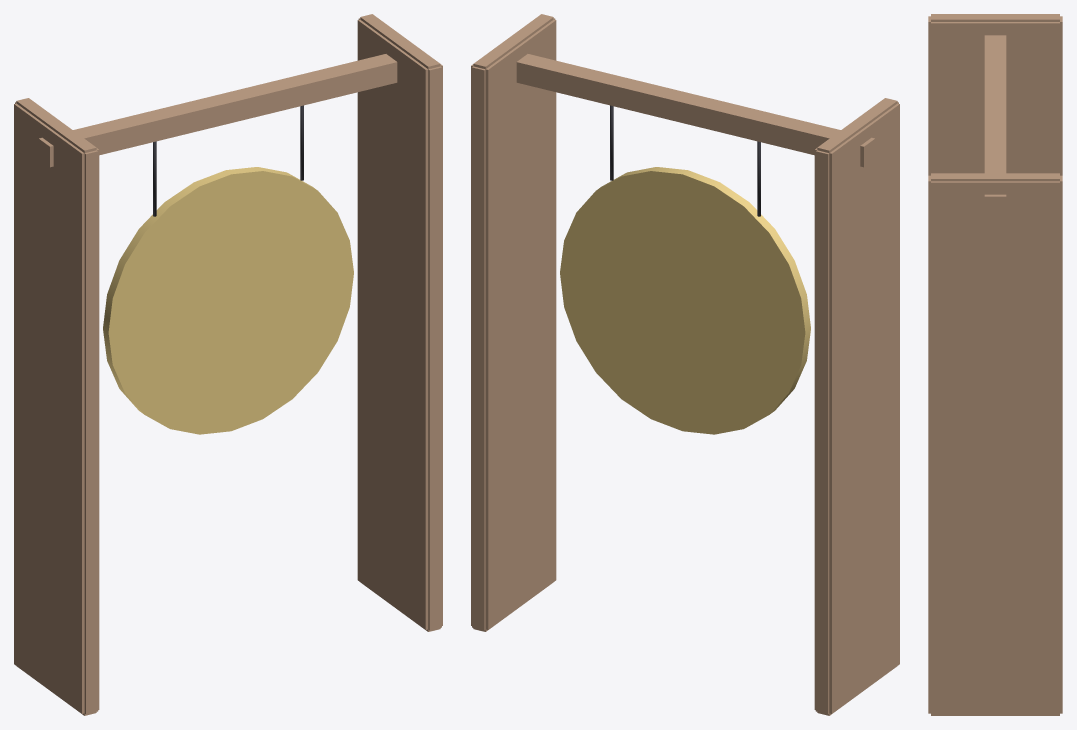
Rendered from gong_stand.glb.
3 views of the same model, side by side, from view 1: azimuth 30°, elevation 25°; view 2: azimuth 150°, elevation 25°; view 3: azimuth 270°, elevation 25° (orthographic). The views are drawn at different scales.
Visible parts, largest first — view 1: gong_stand; view 2: gong_stand; view 3: gong_stand.
Boxes of the visible parts, x1=… form: gong_stand: x1=14, y1=14, x2=442, y2=715; gong_stand: x1=471, y1=14, x2=899, y2=715; gong_stand: x1=928, y1=14, x2=1062, y2=715.
Bounding box in the file's own units: 1.5 × 2.2 × 0.5.
